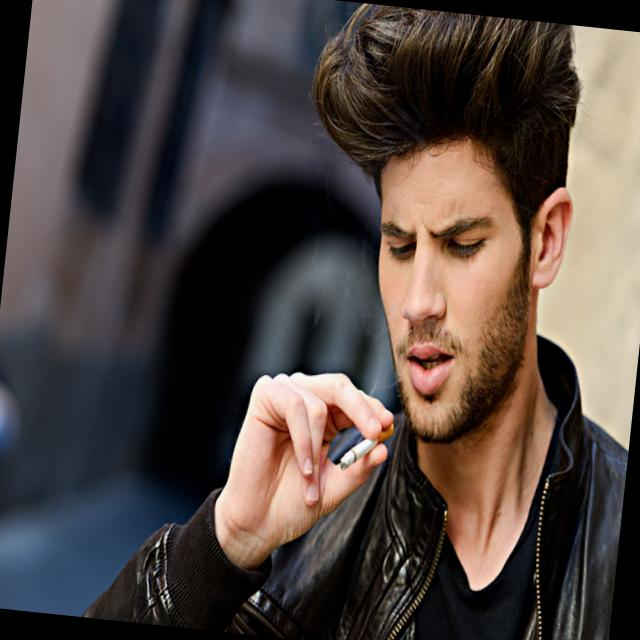smoke: (338, 430, 377, 478)
